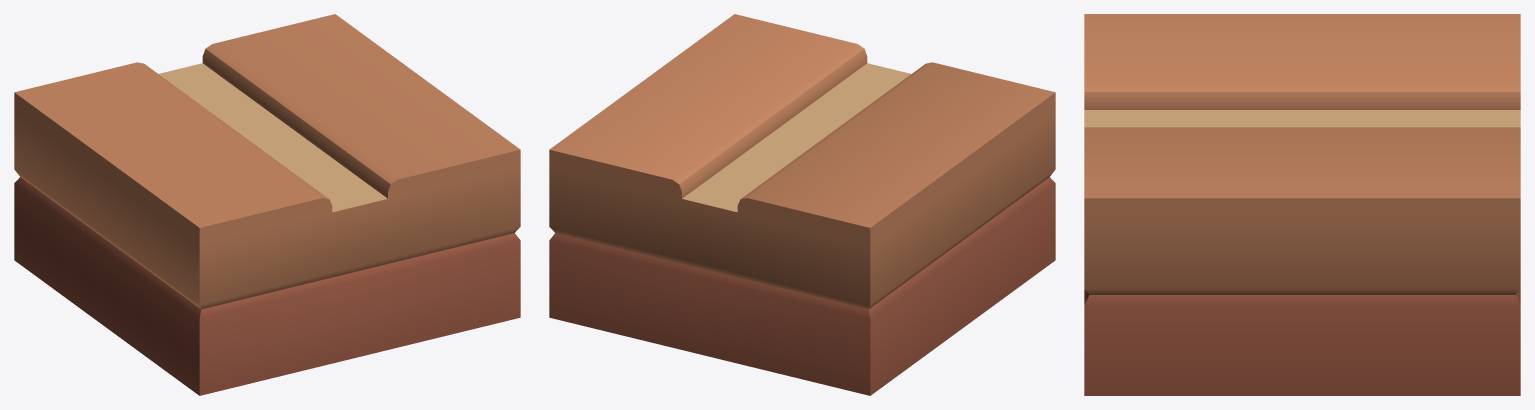
The model's file is square_rock_roadB_detail.glb.
The picture shows the model from 3 angles, left to right: view 1: azimuth 30°, elevation 25°; view 2: azimuth 150°, elevation 25°; view 3: azimuth 270°, elevation 25°; orthographic projection. The views are drawn at different scales.
Parts seen in each view (by area): view 1: square_rock_roadB_detail; view 2: square_rock_roadB_detail; view 3: square_rock_roadB_detail.
Boxes of the visible parts, <box> form: square_rock_roadB_detail: <box>14,14,520,395</box>; square_rock_roadB_detail: <box>549,14,1055,395</box>; square_rock_roadB_detail: <box>1084,14,1520,395</box>.
Size of the model in its own units: 2.4 by 1.2 by 2.4.
